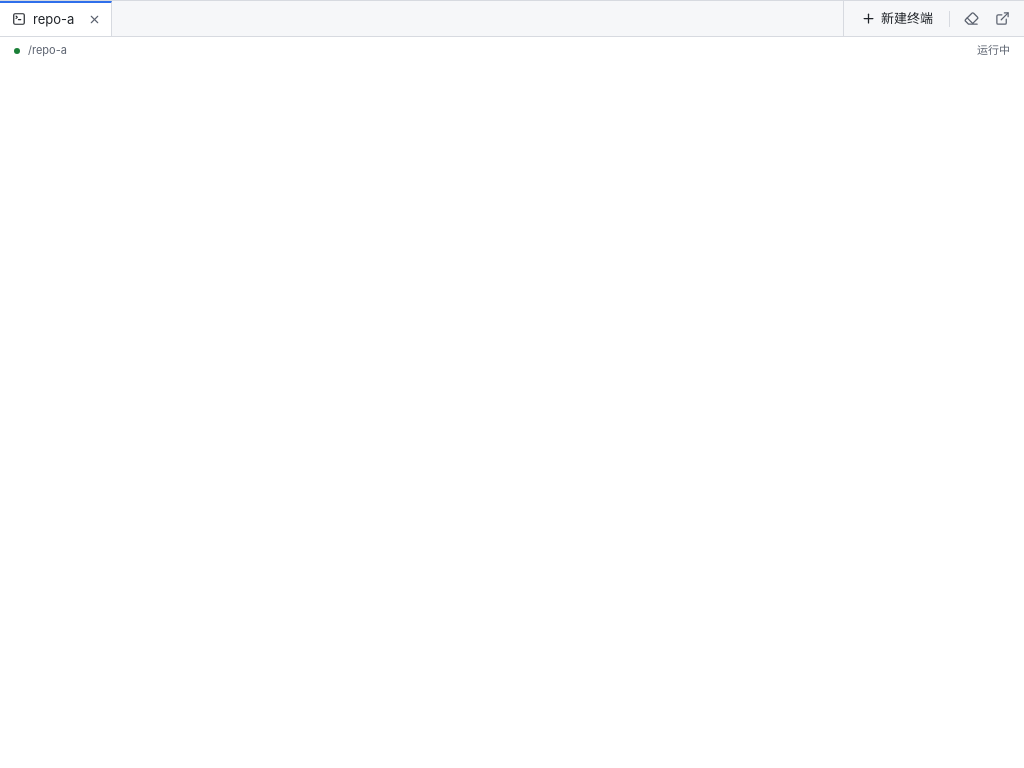
Test: terminal sessions › renames a session without restarting its shell and supports middle-click close
Double-click the tab "repo-a" at [41, 20], box [0, 3, 82, 36]
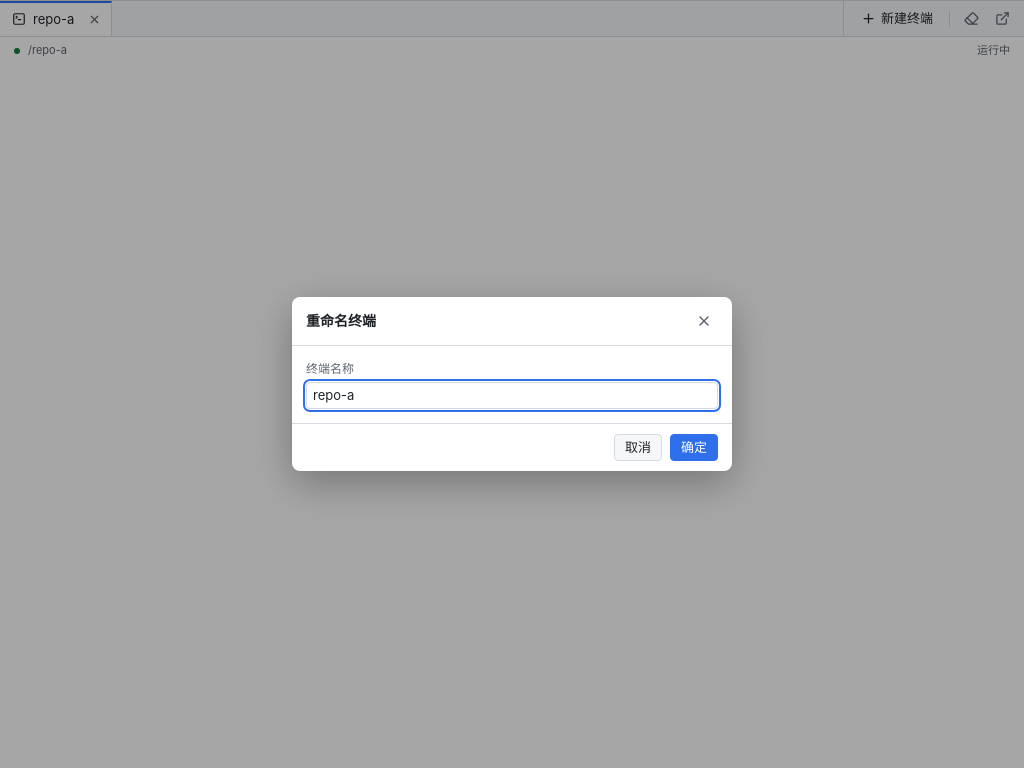
Replace the text in the field labelled "终端名称" with "开发服务" at [512, 395], box [306, 382, 718, 409]
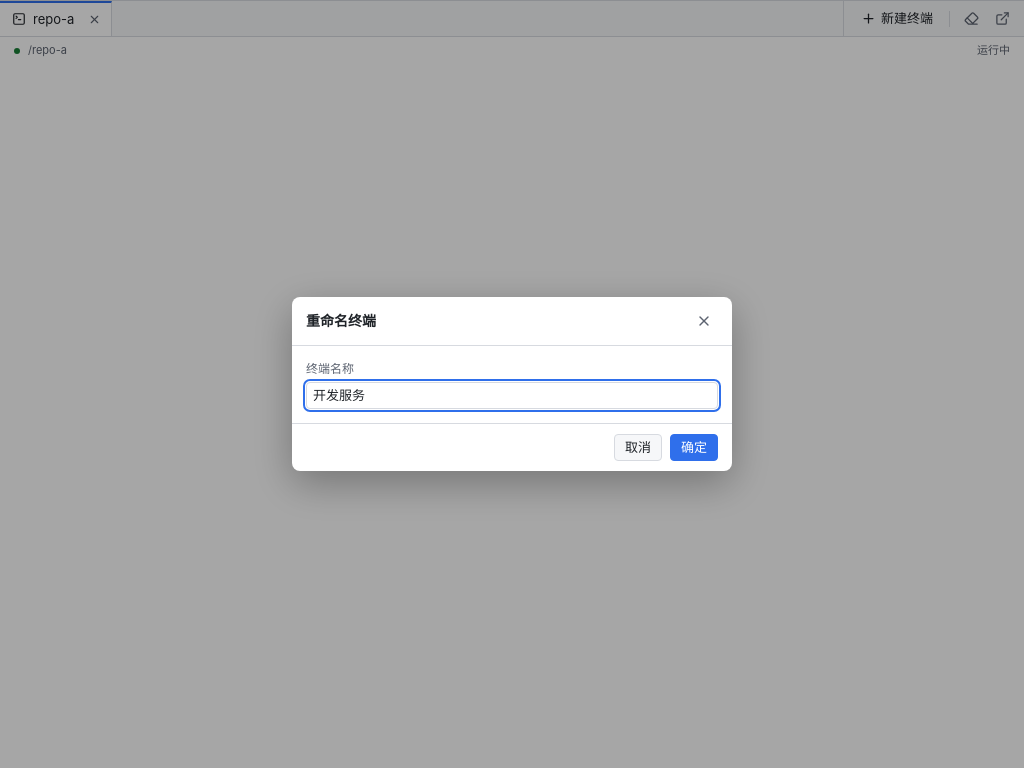
Submit the form "终端名称", box [306, 360, 718, 409]
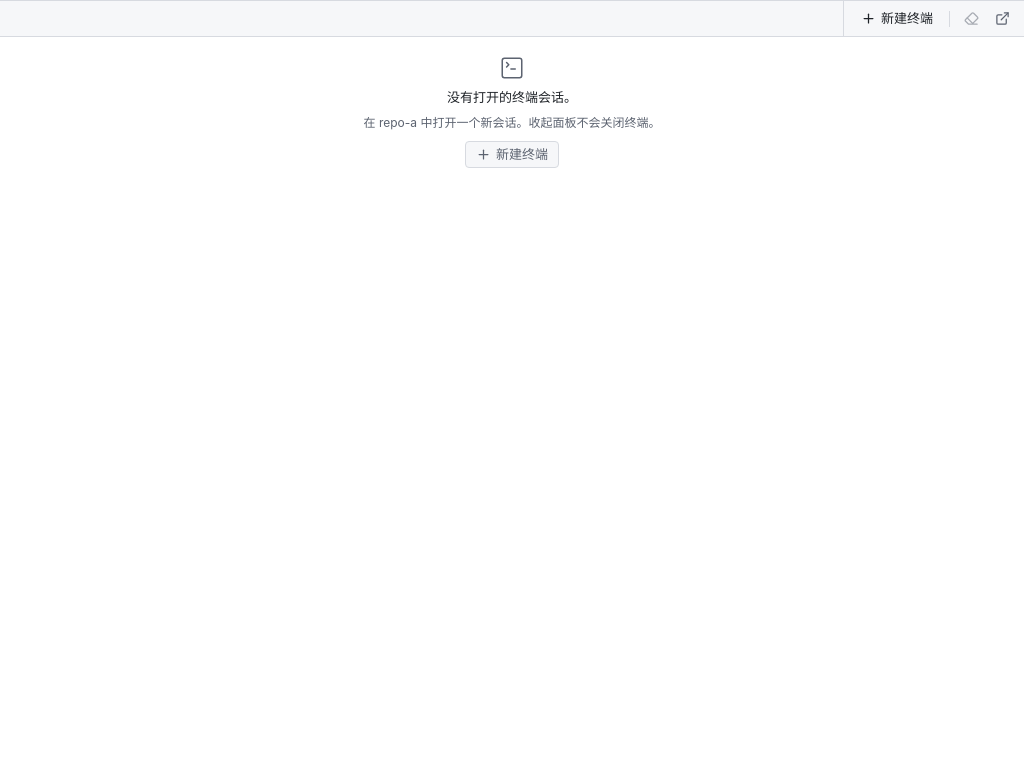
Expected: the text "没有打开的终端会话。" is shown, [447, 88, 577, 107]
